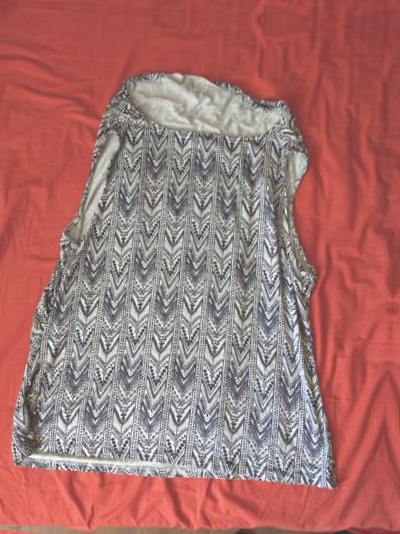Dress: (3, 44, 380, 513)
